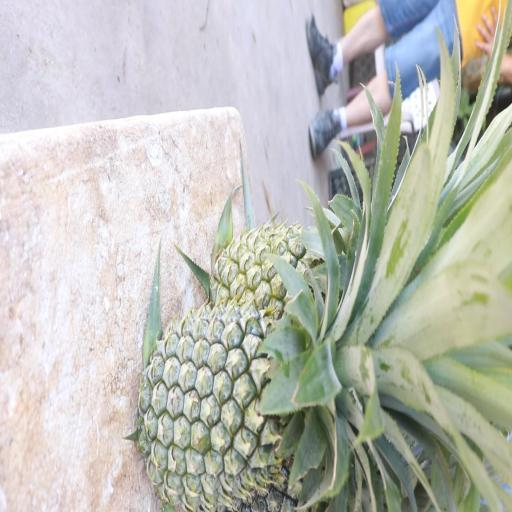Pineapple - v8 v1: (214, 208, 359, 329)
